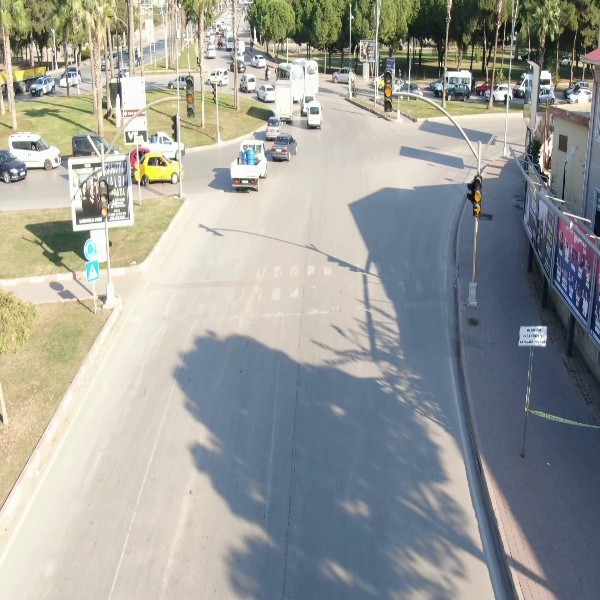car: (5, 130, 67, 174), (129, 149, 184, 192), (269, 132, 296, 166), (26, 73, 58, 101), (486, 80, 515, 108), (443, 77, 471, 103), (303, 100, 327, 130), (261, 115, 286, 143), (254, 78, 280, 103), (204, 68, 232, 91), (59, 70, 89, 90), (329, 65, 356, 87), (238, 73, 255, 96), (247, 52, 267, 71), (204, 44, 217, 59)
